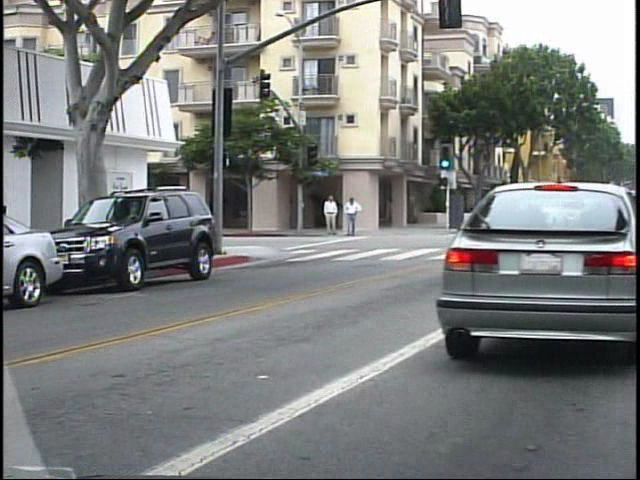person: (340, 193, 360, 238), (321, 192, 340, 238)
